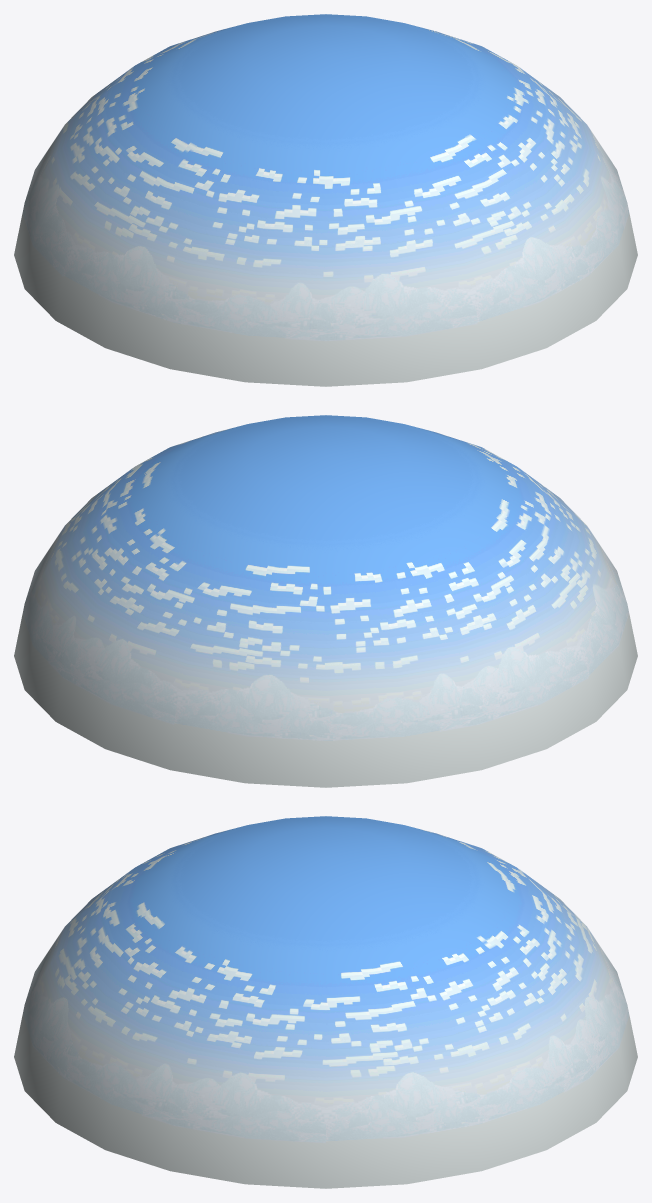
The model's file is sky_02 #666499.fbx.
3 views of the same model, one above another, from view 1: azimuth 30°, elevation 25°; view 2: azimuth 150°, elevation 25°; view 3: azimuth 270°, elevation 25° (orthographic).
Visible parts, largest first — view 1: sky_02; view 2: sky_02; view 3: sky_02.
Part boxes in pixels (x1,y1,x2,y2): sky_02: [14, 14, 637, 386]; sky_02: [14, 415, 637, 787]; sky_02: [14, 816, 637, 1188].
Bounding box in the file's own units: 2106 × 752 × 2106.
